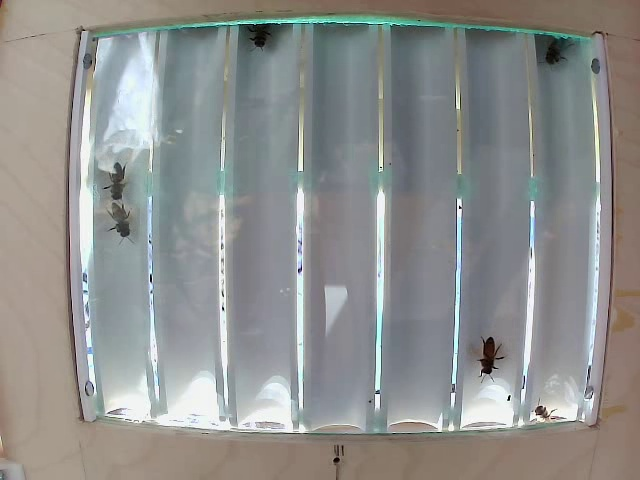bee: (110, 199, 147, 256), (102, 160, 143, 202), (472, 324, 501, 380)
